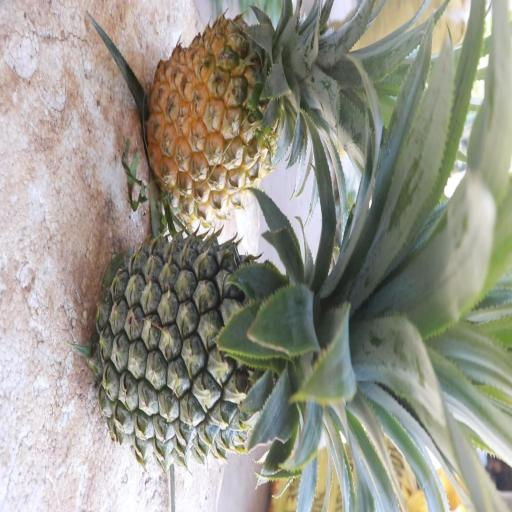Pineapple - v8 v1: (146, 3, 388, 204)
